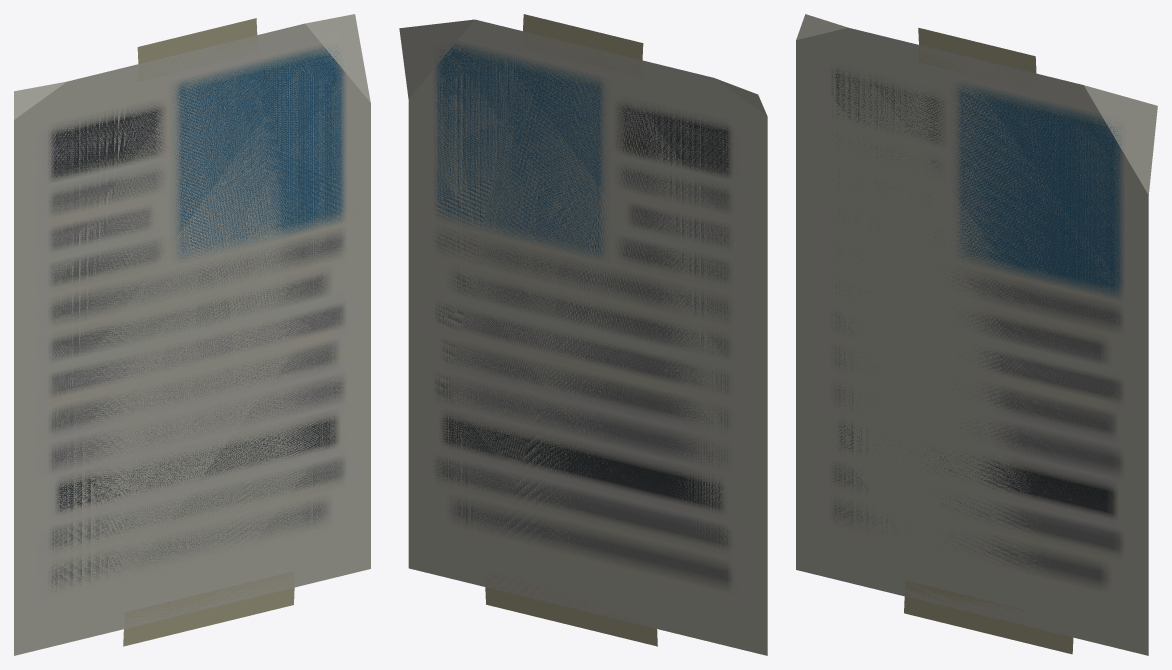
Rendered from SM_Bld_Window_Poster_Inside_04.obj.
3 renders of one model, left to right at view 1: azimuth 30°, elevation 25°; view 2: azimuth 150°, elevation 25°; view 3: azimuth 330°, elevation 25°, orthographic.
Parts seen in each view (by area): view 1: SM_Bld_Window_Poster_Inside_04_0; view 2: SM_Bld_Window_Poster_Inside_04_0; view 3: SM_Bld_Window_Poster_Inside_04_0.
Boxes of the visible parts, x1,y1,x2,y2 form: SM_Bld_Window_Poster_Inside_04_0: (14, 14, 370, 655); SM_Bld_Window_Poster_Inside_04_0: (399, 14, 767, 655); SM_Bld_Window_Poster_Inside_04_0: (796, 14, 1157, 655).
Bounding box in the file's own units: 0.2587 × 0.413 × 0.0157.
1 material, 1 textured.
